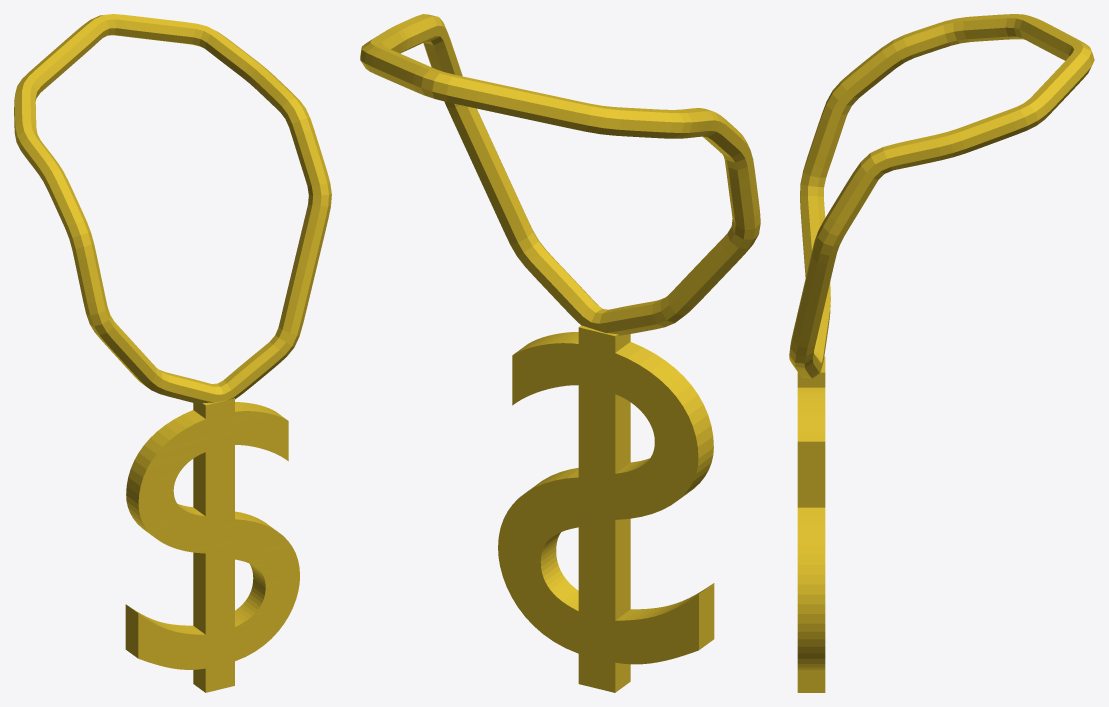
File: Smoker_GoldKette.fbx
3 views of the same model, side by side, from view 1: azimuth 30°, elevation 25°; view 2: azimuth 150°, elevation 25°; view 3: azimuth 270°, elevation 25° (orthographic). The views are drawn at different scales.
Visible parts, largest first — view 1: GoldKette; view 2: GoldKette; view 3: GoldKette.
Boxes of the visible parts, bbox=[...] form: GoldKette: bbox=[14, 14, 331, 692]; GoldKette: bbox=[360, 14, 760, 692]; GoldKette: bbox=[789, 14, 1094, 692].
Bounding box in the file's own units: 71.31 × 154 × 66.13.
